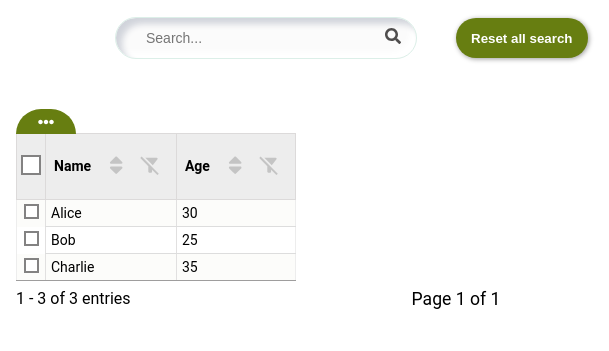
Test: Table › Search by property functionality works correctly
// Trigger the onChange event on the general search input with a search term
Click the button with test id "btnOpenSearch-age": point(270, 166) 252,153 -> 287,180
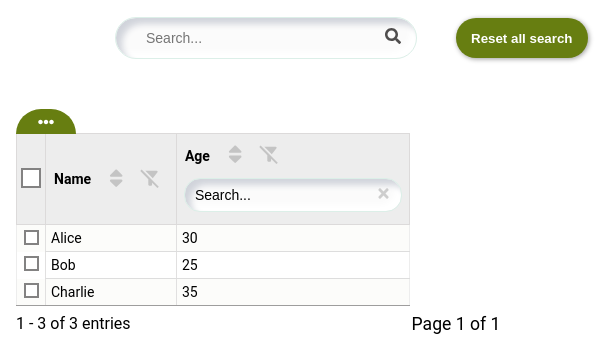
In the field with test id "btnSearch-age": point(293, 195) 185,179 -> 401,211, type "25"
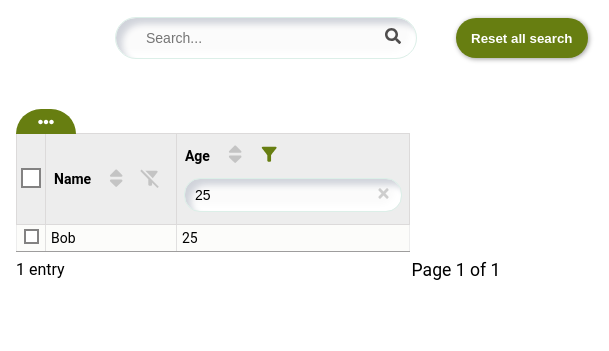
Expected: the text "Bob" is shown, 46,225 -> 176,252
Expected: the text "25" is shown, 176,225 -> 409,252
Expected: the text "Alice" is gone
Click the button with test id "btnResetClose-age": point(385, 195) 370,179 -> 401,211
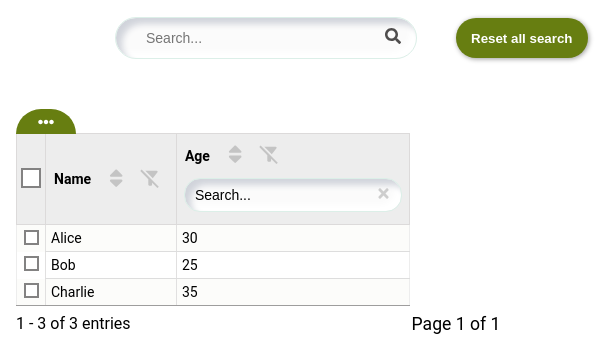
Expected: the text "Charlie" is shown, 46,279 -> 176,306
